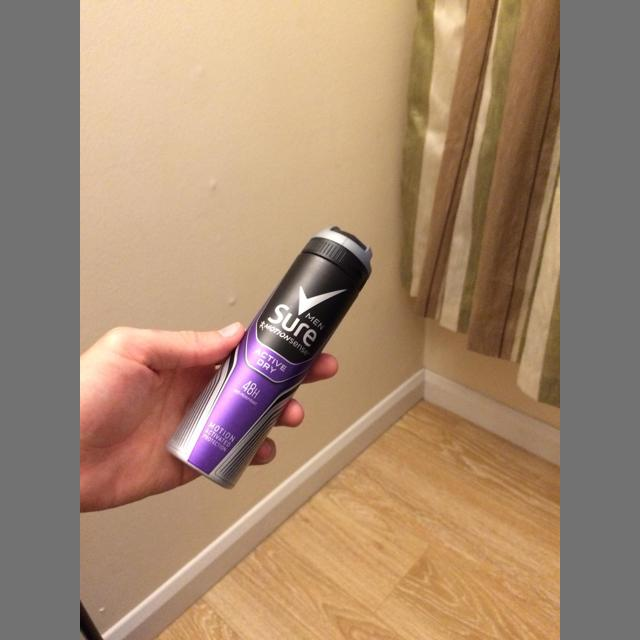litter: (166, 226, 373, 490)
